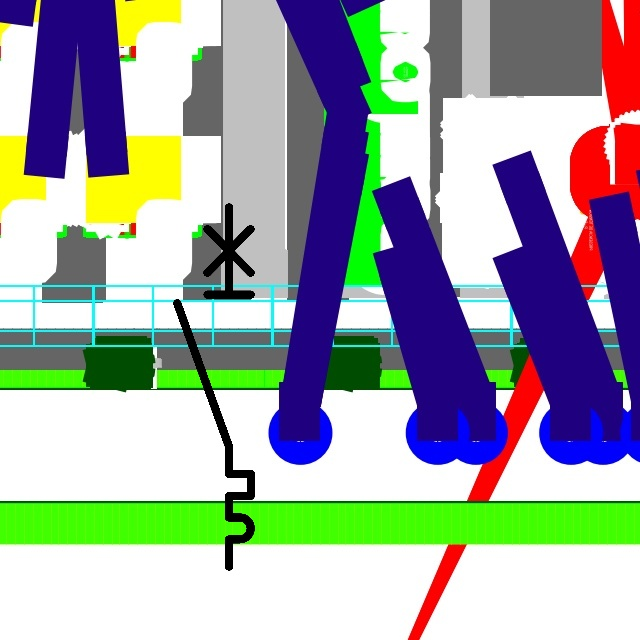interruptor_termomagnetico: (168, 198, 260, 576)
